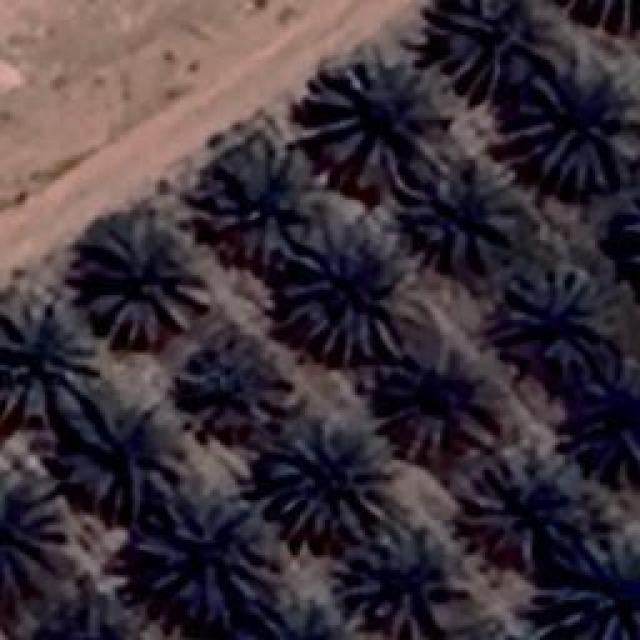PalmTree: (103, 43, 297, 618), (36, 118, 103, 542), (298, 52, 460, 192), (280, 220, 430, 362), (138, 488, 278, 622), (262, 418, 400, 540), (504, 65, 638, 190), (82, 220, 210, 348), (65, 392, 190, 518), (172, 330, 298, 435), (191, 135, 301, 253), (0, 300, 102, 425), (380, 348, 490, 460), (335, 528, 445, 638), (494, 262, 608, 368), (462, 457, 582, 555), (540, 532, 638, 638), (428, 0, 540, 78), (574, 358, 638, 488), (432, 172, 512, 268), (40, 591, 143, 640), (43, 594, 144, 640), (620, 177, 640, 300), (555, 0, 640, 28), (623, 175, 640, 302)
